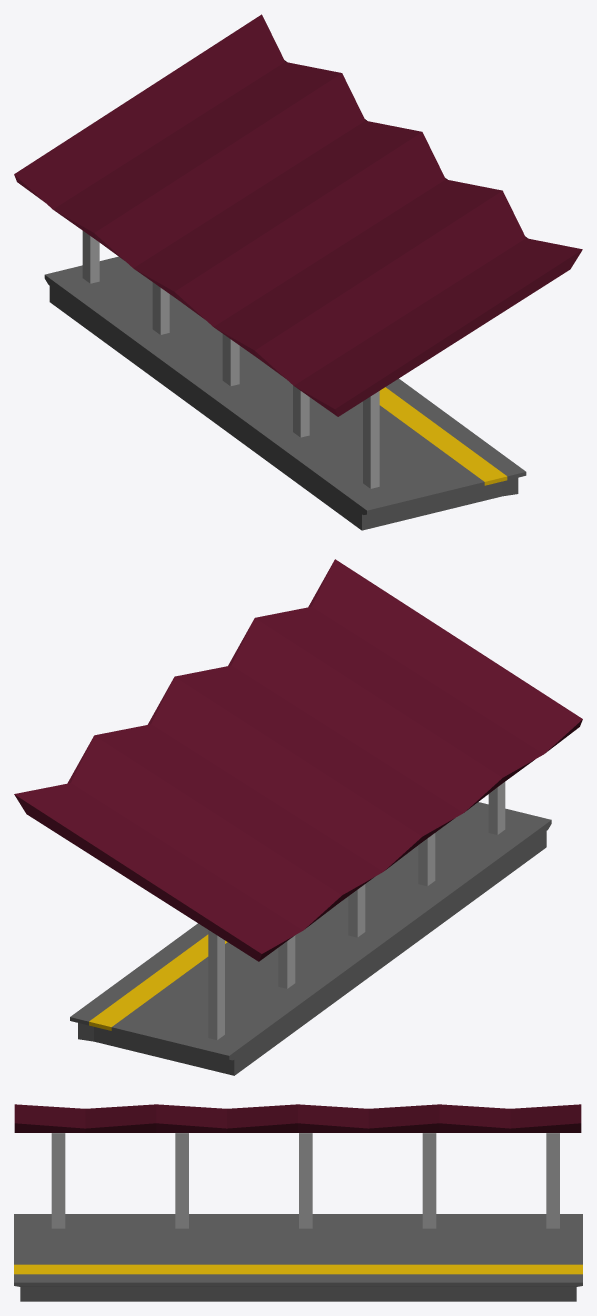
The model's file is Platform.fbx.
The picture shows the model from 3 angles, top to bottom: view 1: azimuth 30°, elevation 25°; view 2: azimuth 150°, elevation 25°; view 3: azimuth 270°, elevation 25°; orthographic projection. The views are drawn at different scales.
Visible parts, largest first — view 1: Cube; view 2: Cube; view 3: Cube.
Part boxes in pixels (bbox=[...]): Cube: bbox=[14, 14, 582, 530]; Cube: bbox=[14, 559, 582, 1075]; Cube: bbox=[14, 1104, 582, 1301].
Size of the model in its own units: 1642 by 1462 by 3682.
